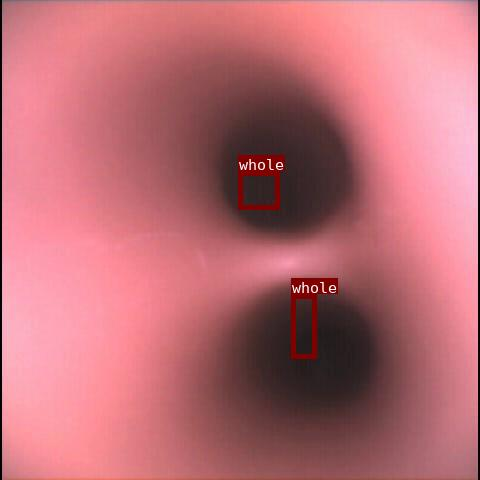whole: (291, 294, 316, 358), (238, 171, 279, 209)
